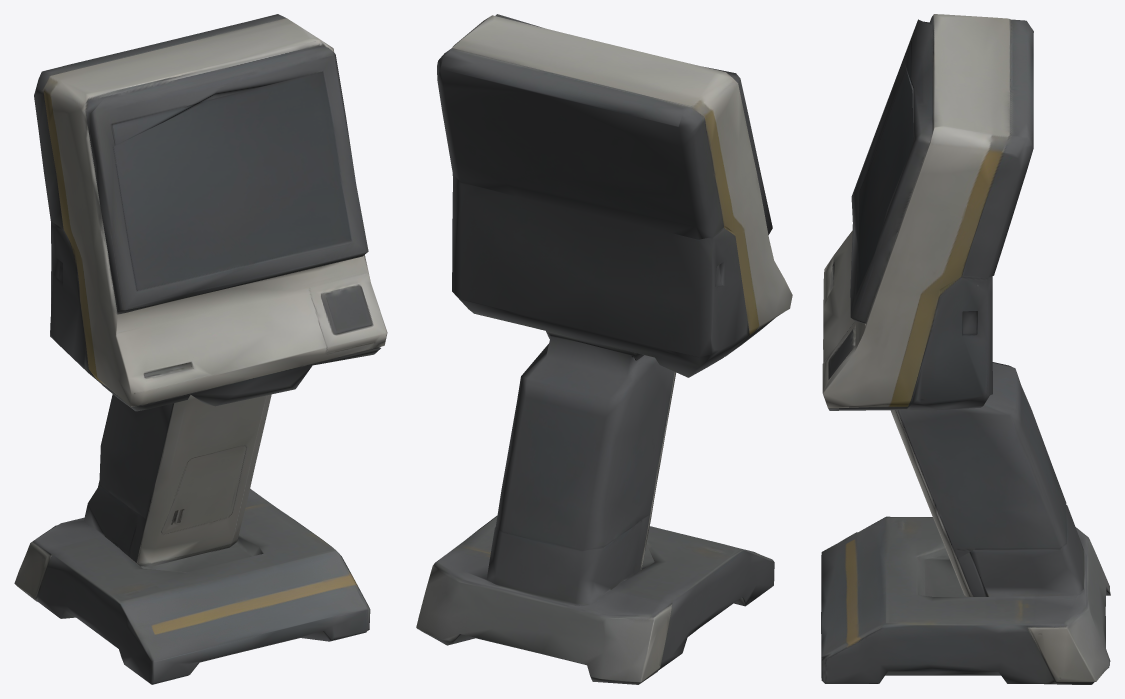
The model's file is ENV_ALL_092_v001_RAW.glb.glb.
The picture shows the model from 3 angles, left to right: view 1: azimuth 30°, elevation 25°; view 2: azimuth 150°, elevation 25°; view 3: azimuth 270°, elevation 25°; orthographic projection.
Parts seen in each view (by area): view 1: tripo_node_71018126-bed6-4207-a413-6df653885d89; view 2: tripo_node_71018126-bed6-4207-a413-6df653885d89; view 3: tripo_node_71018126-bed6-4207-a413-6df653885d89.
Boxes of the visible parts, x1,y1,x2,y2 form: tripo_node_71018126-bed6-4207-a413-6df653885d89: [14, 14, 387, 684]; tripo_node_71018126-bed6-4207-a413-6df653885d89: [416, 14, 792, 684]; tripo_node_71018126-bed6-4207-a413-6df653885d89: [821, 14, 1110, 684].
Bounding box in the file's own units: 0.48 × 0.9797 × 0.459.
Materials: 1 (1 with a texture image).
